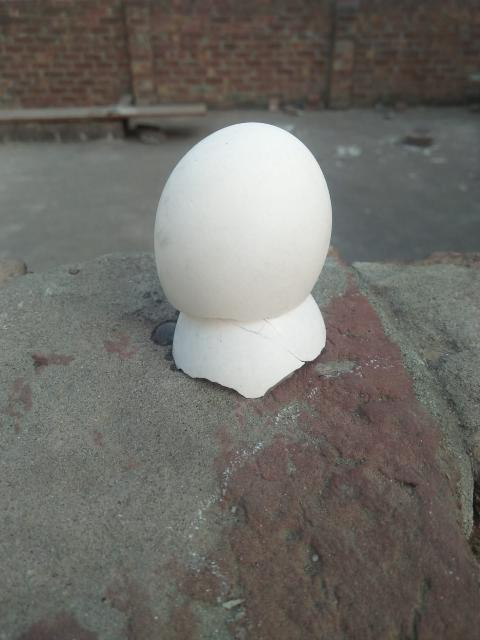Roto: (152, 120, 333, 398)
